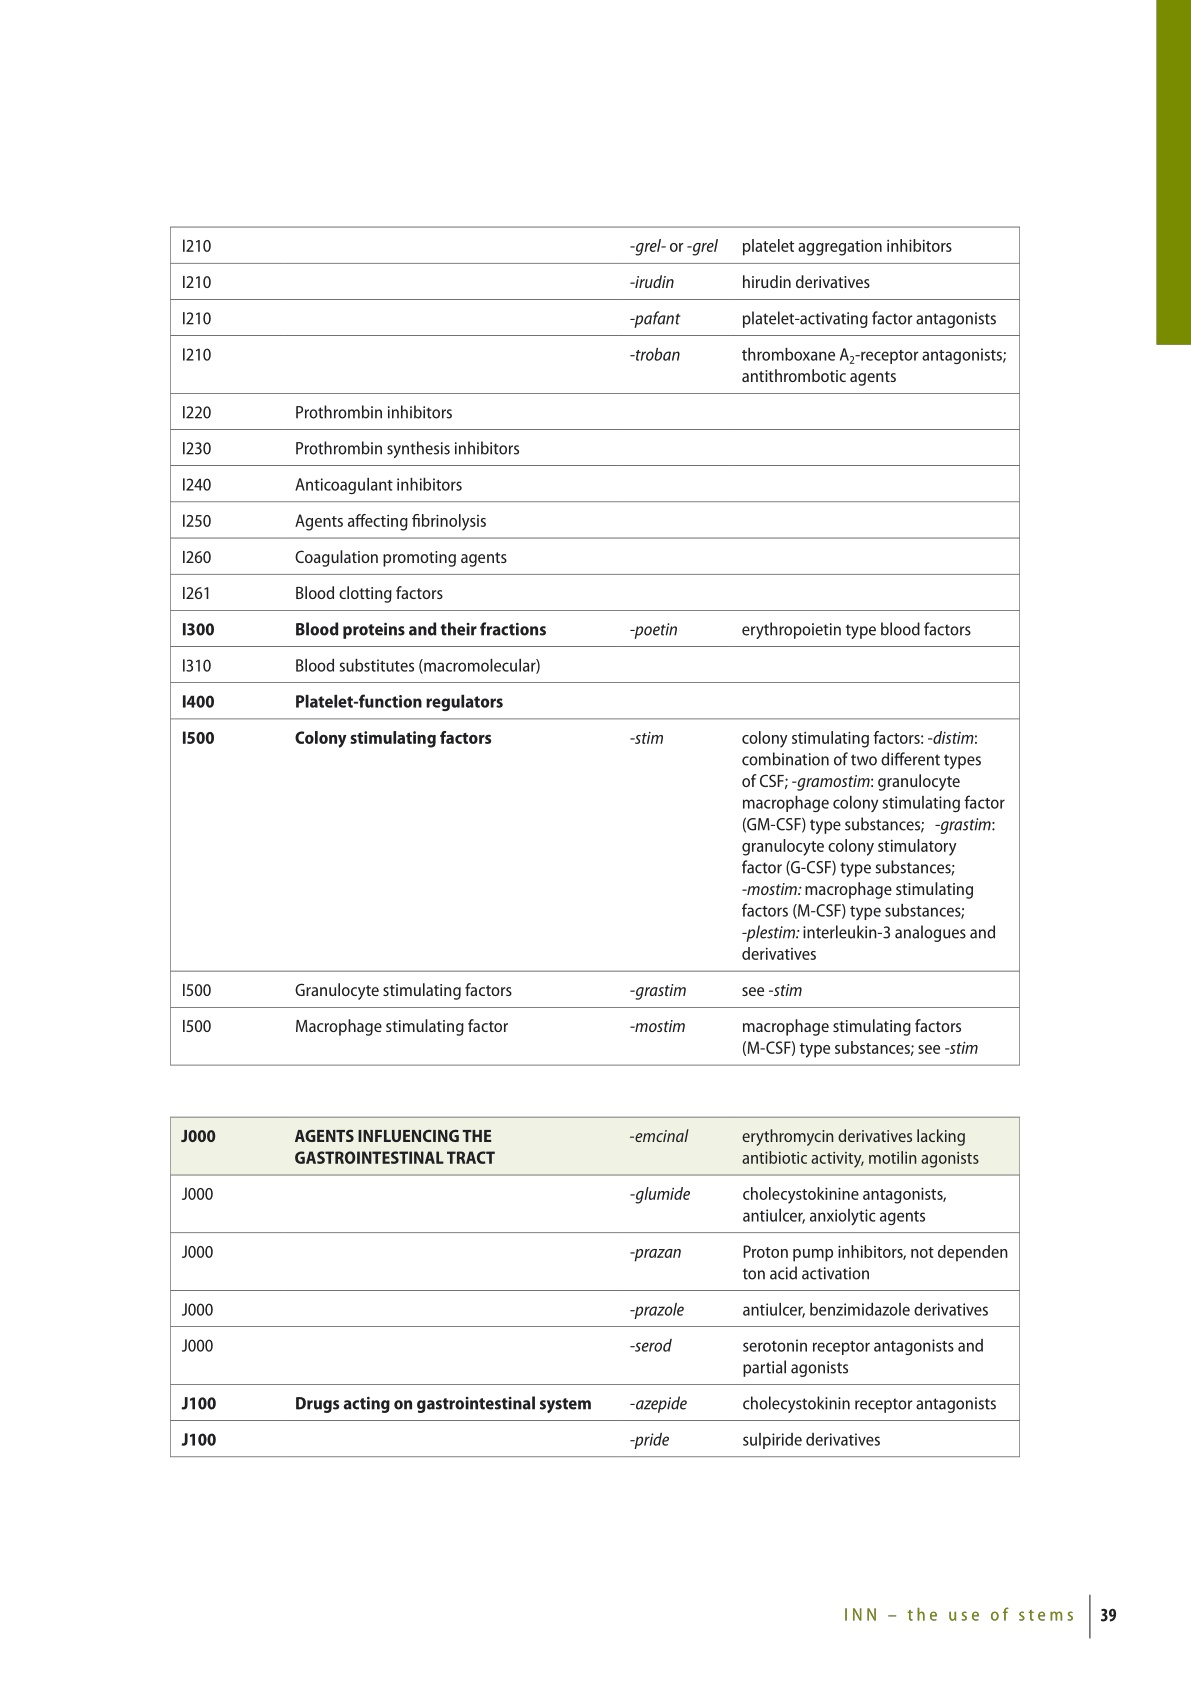partial_lined: (168, 224, 1021, 1459)
